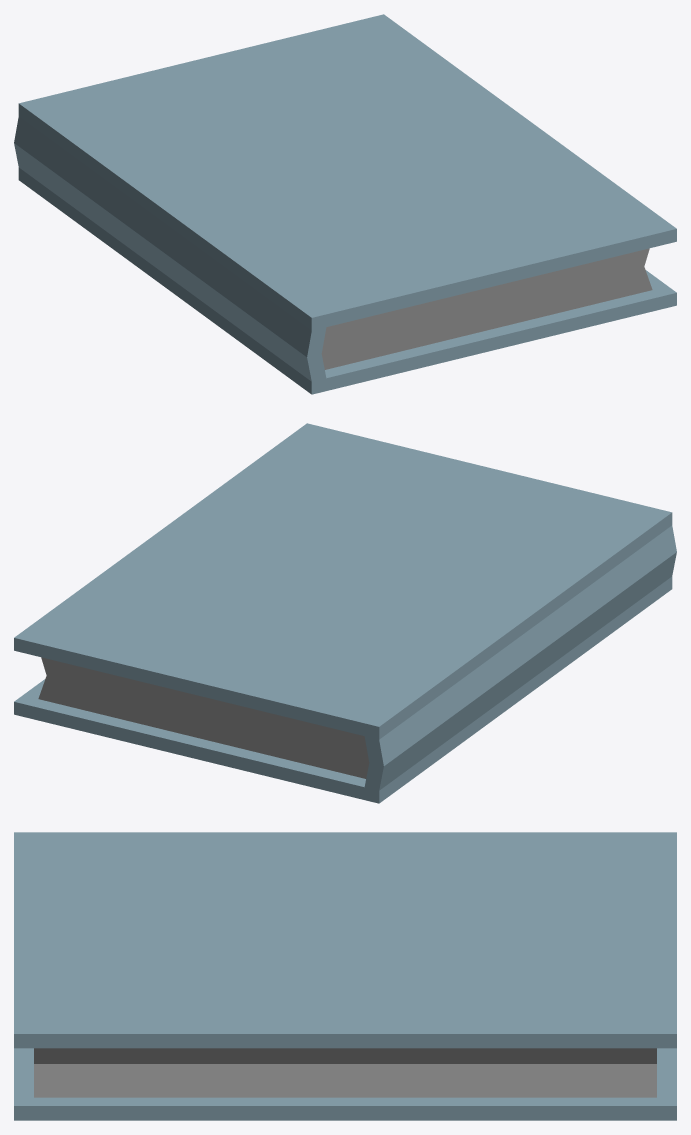
File: Book.fbx
3 views of the same model, one above another, from view 1: azimuth 30°, elevation 25°; view 2: azimuth 150°, elevation 25°; view 3: azimuth 270°, elevation 25° (orthographic). The views are drawn at different scales.
Visible parts, largest first — view 1: book; view 2: book; view 3: book.
Boxes of the visible parts, left/top/right/bottom form: book: left=14, top=14, right=676, bottom=394; book: left=14, top=423, right=676, bottom=803; book: left=14, top=832, right=676, bottom=1120.
Size of the model in its own units: 81.42 by 16.15 by 112.
